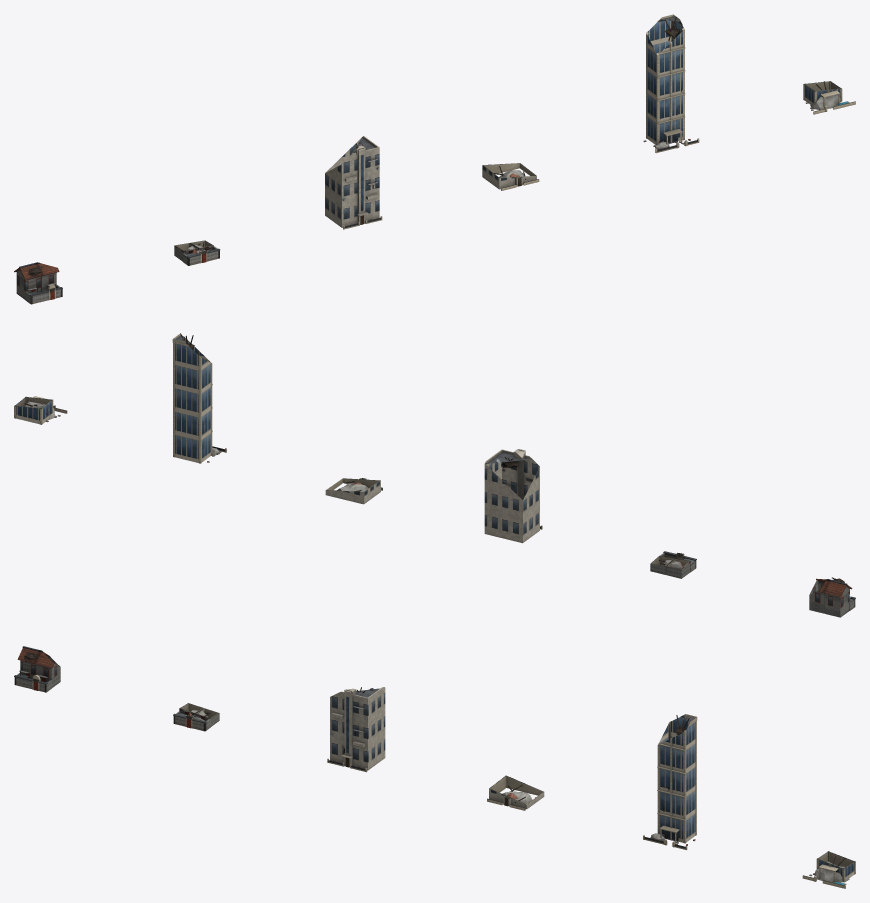
Rendered from modern-sinic-houses-damage.glb.
3 renders of one model, top to bottom at view 1: azimuth 30°, elevation 25°; view 2: azimuth 150°, elevation 25°; view 3: azimuth 330°, elevation 25°, orthographic.
Parts seen in each view (by area): view 1: LOD0.004, LOD0.002, LOD0, LOD0.005, LOD0.003, LOD0.001; view 2: LOD0.002, LOD0.004, LOD0, LOD0.003, LOD0.005, LOD0.001; view 3: LOD0.004, LOD0.002, LOD0, LOD0.003, LOD0.005, LOD0.001.
Boxes of the visible parts, x1,y1,x2,y2 form: LOD0.004: (643, 14, 699, 153); LOD0.002: (325, 136, 382, 229); LOD0: (14, 262, 62, 304); LOD0.005: (803, 81, 855, 114); LOD0.003: (482, 163, 539, 190); LOD0.001: (174, 240, 220, 265); LOD0.002: (484, 449, 542, 543); LOD0.004: (172, 333, 226, 463); LOD0: (809, 577, 855, 617); LOD0.003: (325, 478, 382, 504); LOD0.005: (14, 396, 67, 424); LOD0.001: (650, 551, 696, 578); LOD0.004: (643, 714, 697, 850); LOD0.002: (327, 687, 385, 772); LOD0: (14, 646, 60, 692); LOD0.003: (487, 775, 544, 810); LOD0.005: (802, 851, 855, 888); LOD0.001: (173, 703, 219, 731).
Size of what is drawn, in the model's own units: 15.73 by 2.19 by 0.66.
2 materials, 2 textured.
